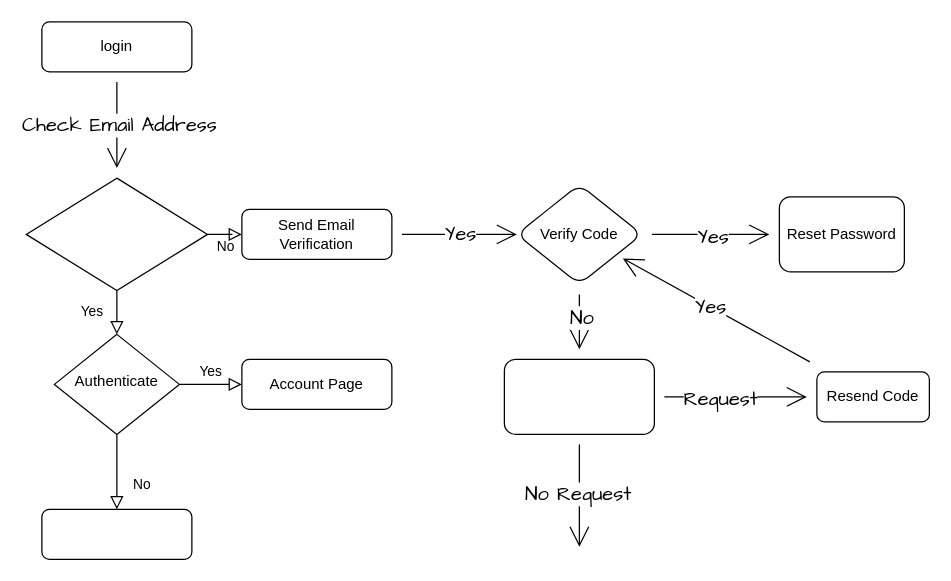
This 951x581 diagram has some shape labels left out. Here are the shapes that lost their labels. From the top down, the centre of each, then its label:
(x=116, y=234): Check password
(x=578, y=396): Verification Failed
(x=116, y=533): Exceptions
